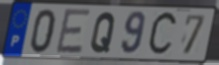0: (28, 8, 58, 55)
7: (183, 13, 208, 56)
9: (119, 10, 147, 58)
C: (146, 9, 179, 59)
E: (54, 7, 92, 56)
Q: (89, 11, 118, 54)
